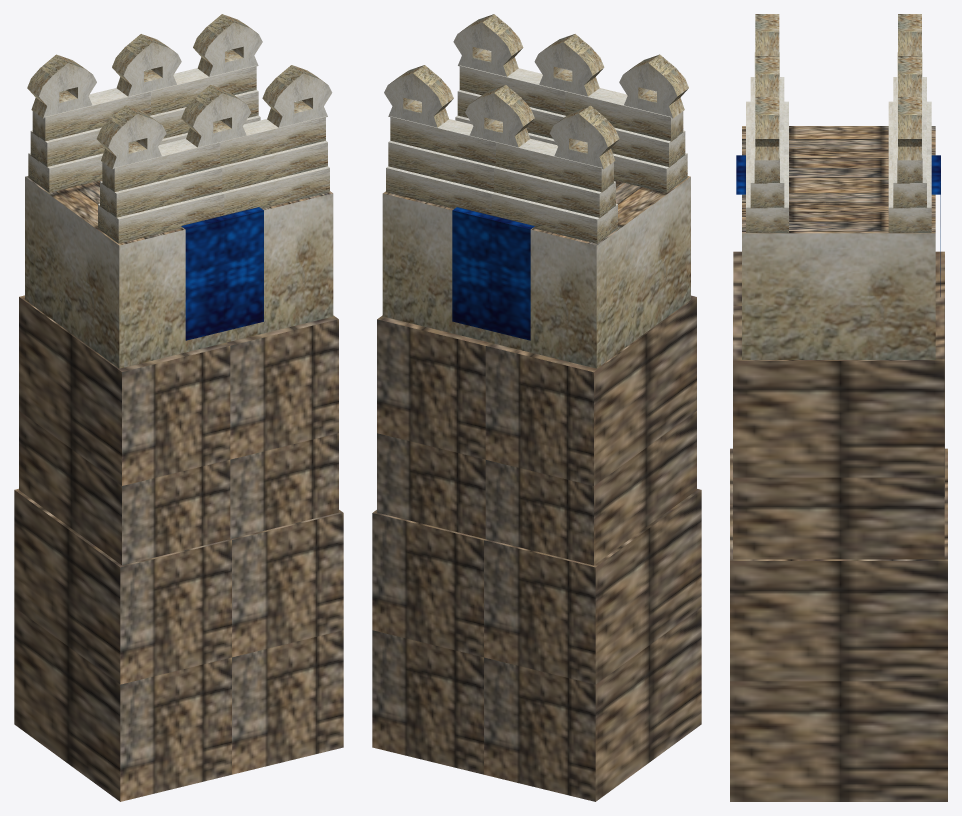
The model's file is wall_short.dae.
The picture shows the model from 3 angles, left to right: view 1: azimuth 30°, elevation 25°; view 2: azimuth 150°, elevation 25°; view 3: azimuth 270°, elevation 25°; orthographic projection. The views are drawn at different scales.
Parts seen in each view (by area): view 1: tami_wall_short; view 2: tami_wall_short; view 3: tami_wall_short.
Part boxes in pixels (x1,y1,x2,y2): tami_wall_short: [14, 14, 343, 801]; tami_wall_short: [372, 14, 701, 801]; tami_wall_short: [730, 14, 947, 801].
Size of the model in its own units: 8.23 by 6.74 by 23.56.
